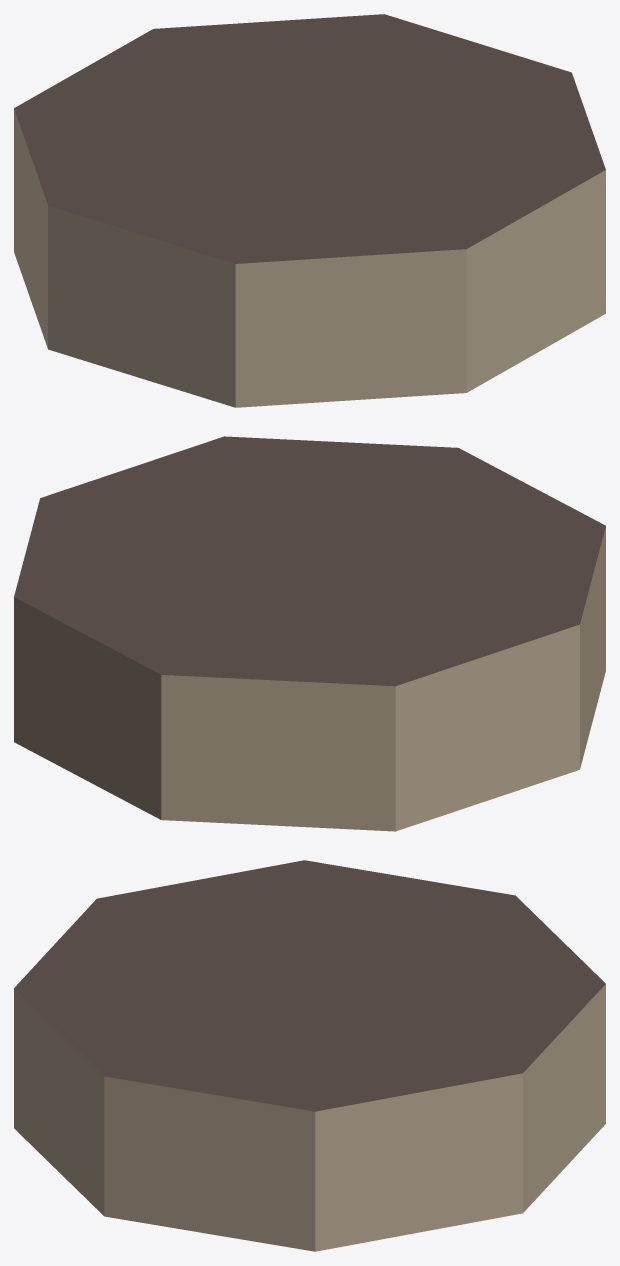
3 views of the same model, one above another, from view 1: azimuth 30°, elevation 25°; view 2: azimuth 150°, elevation 25°; view 3: azimuth 270°, elevation 25° (orthographic). The views are drawn at different scales.
Parts seen in each view (by area): view 1: HP-w369317602; view 2: HP-w369317602; view 3: HP-w369317602.
Boxes of the visible parts, box(x1,y1,x2,y2) form: HP-w369317602: box(14, 14, 605, 407); HP-w369317602: box(14, 436, 605, 831); HP-w369317602: box(14, 860, 605, 1251).
Size of the model in its own units: 34.65 by 9 by 34.47.
